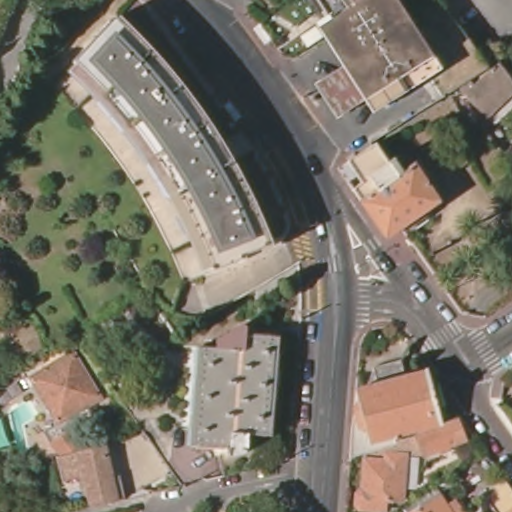pool: (1, 398, 39, 453)
